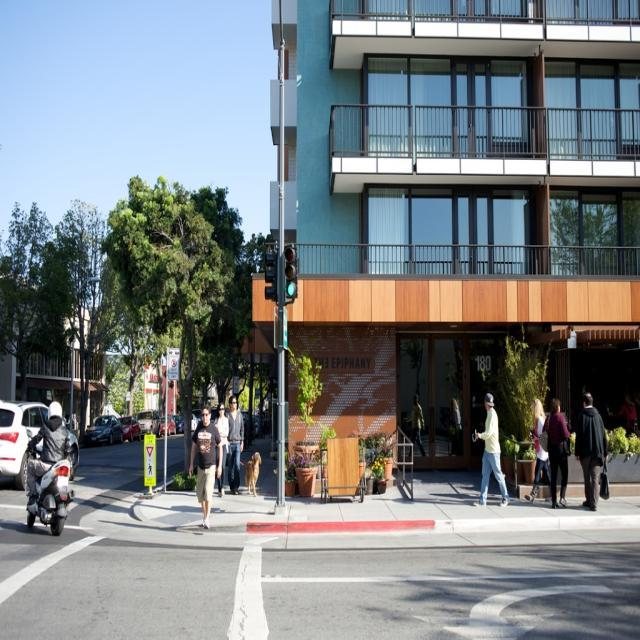traffic light: (264, 248, 279, 301), (284, 247, 298, 297)
